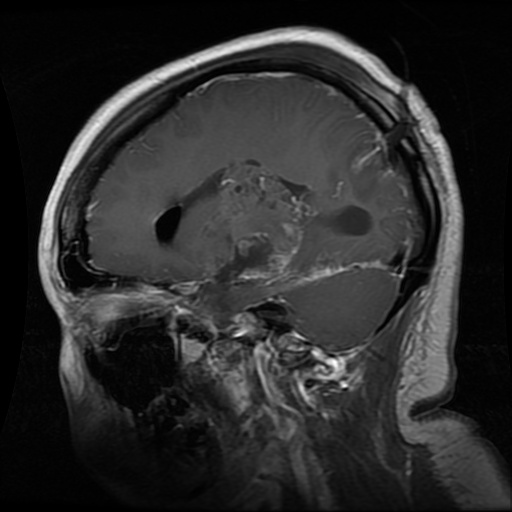glioma: (155, 159, 375, 285)
